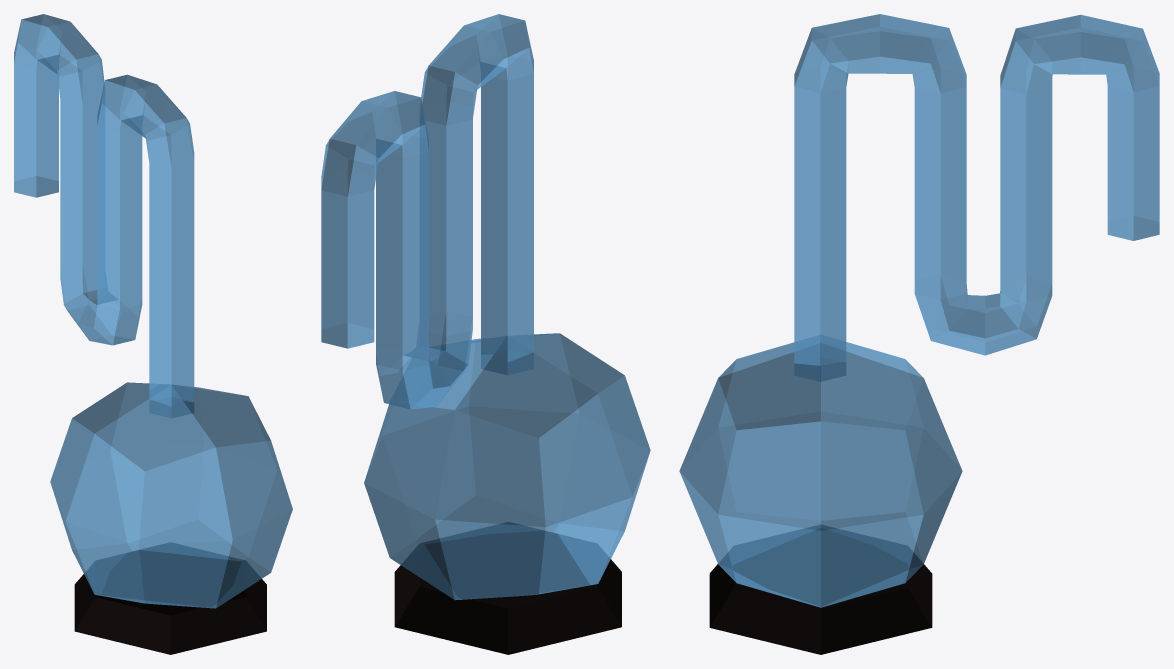
The model's file is Chemical Beaker.fbx.
The picture shows the model from 3 angles, left to right: view 1: azimuth 30°, elevation 25°; view 2: azimuth 150°, elevation 25°; view 3: azimuth 270°, elevation 25°; orthographic projection. The views are drawn at different scales.
Visible parts, largest first — view 1: Node 0; view 2: Node 0; view 3: Node 0.
Part boxes in pixels (bbox=[...]): Node 0: bbox=[14, 14, 292, 654]; Node 0: bbox=[321, 14, 650, 654]; Node 0: bbox=[679, 14, 1159, 654].
Bounding box in the file's own units: 0.4659 × 0.6217 × 0.2748.
